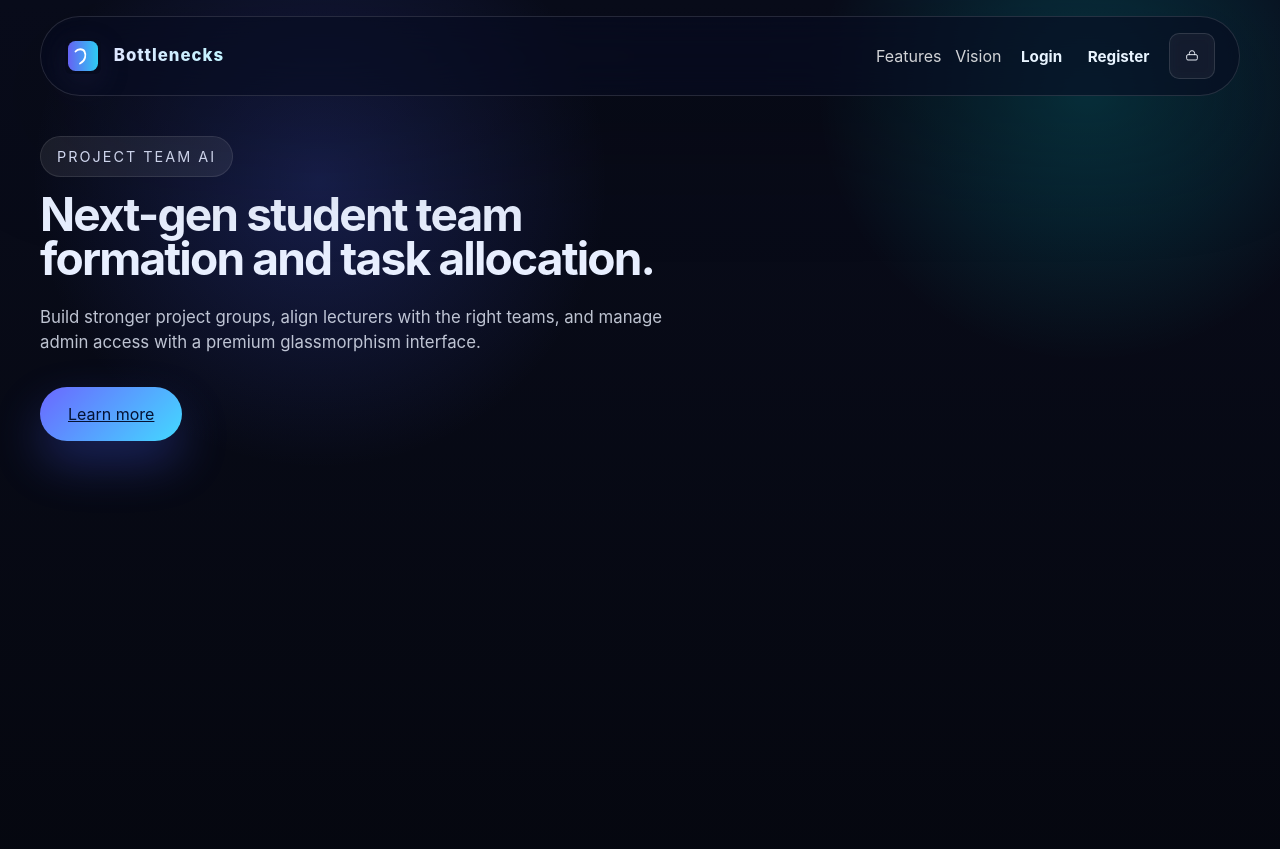
App – student join project › shows join project form when Join Project is clicked
Step 1. Click the button labelled "Login" → (1042, 56), box [1015,43,1068,69]
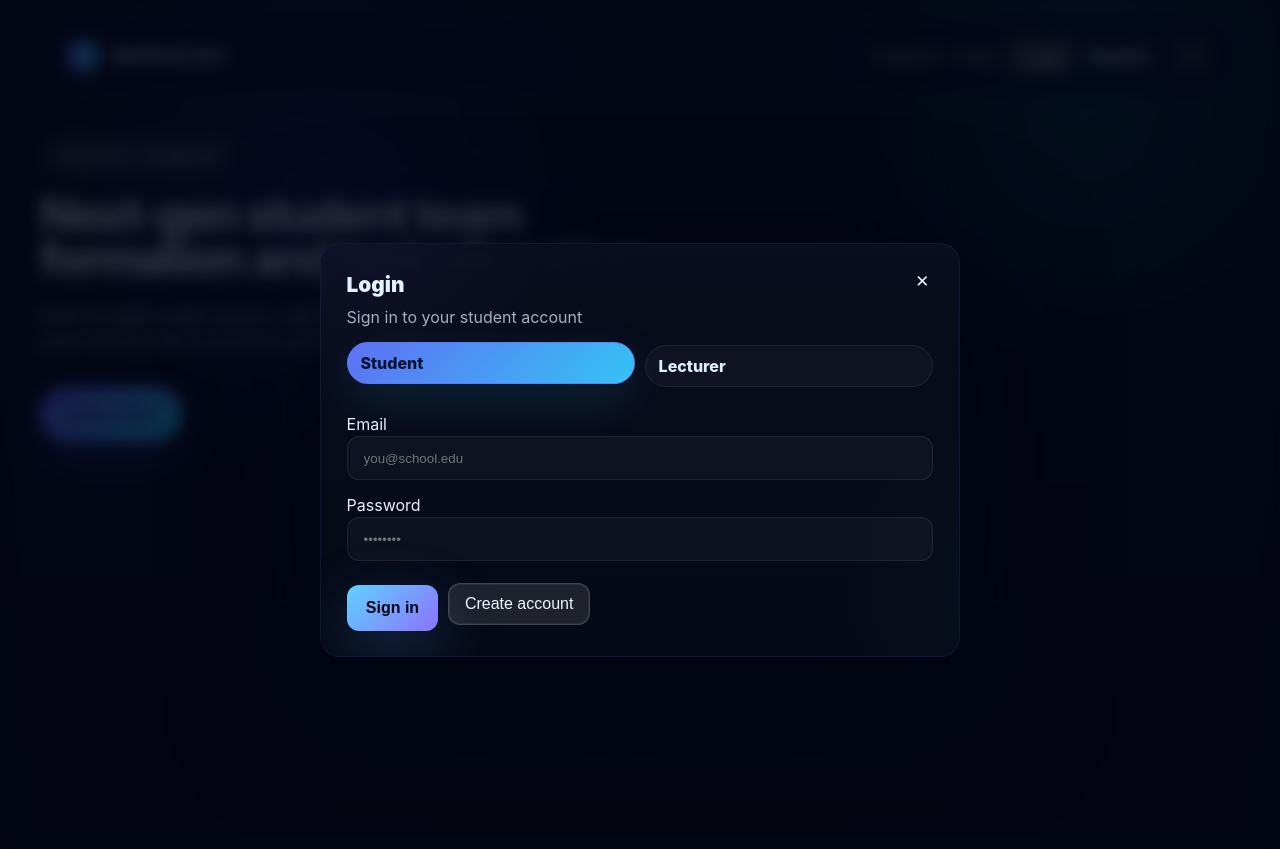
Step 2. Type "student@school.edu" into the field with placeholder "you@school.edu" → (640, 458), box [347,436,933,480]
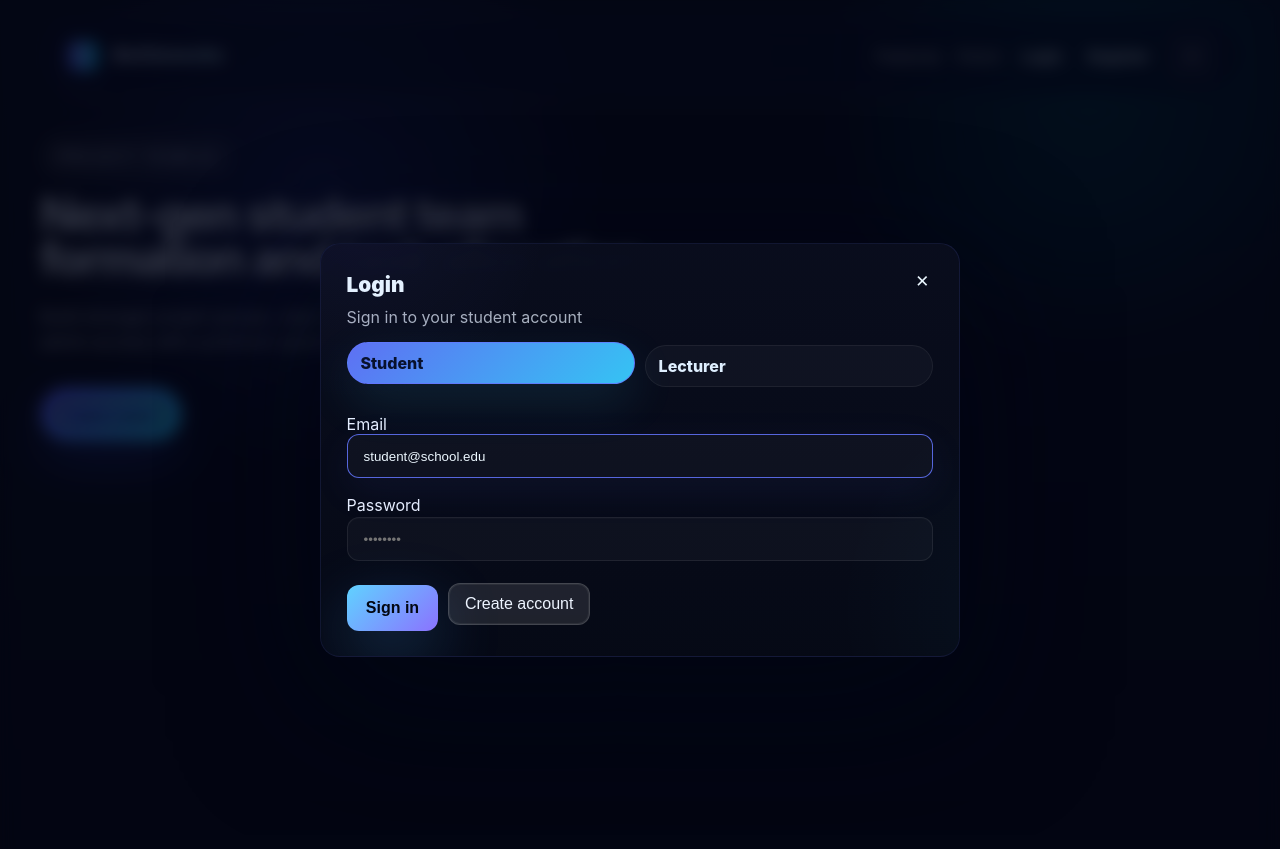
Step 3. Type "password123" into the password field with placeholder "••••••••" → (640, 539), box [347,517,933,561]
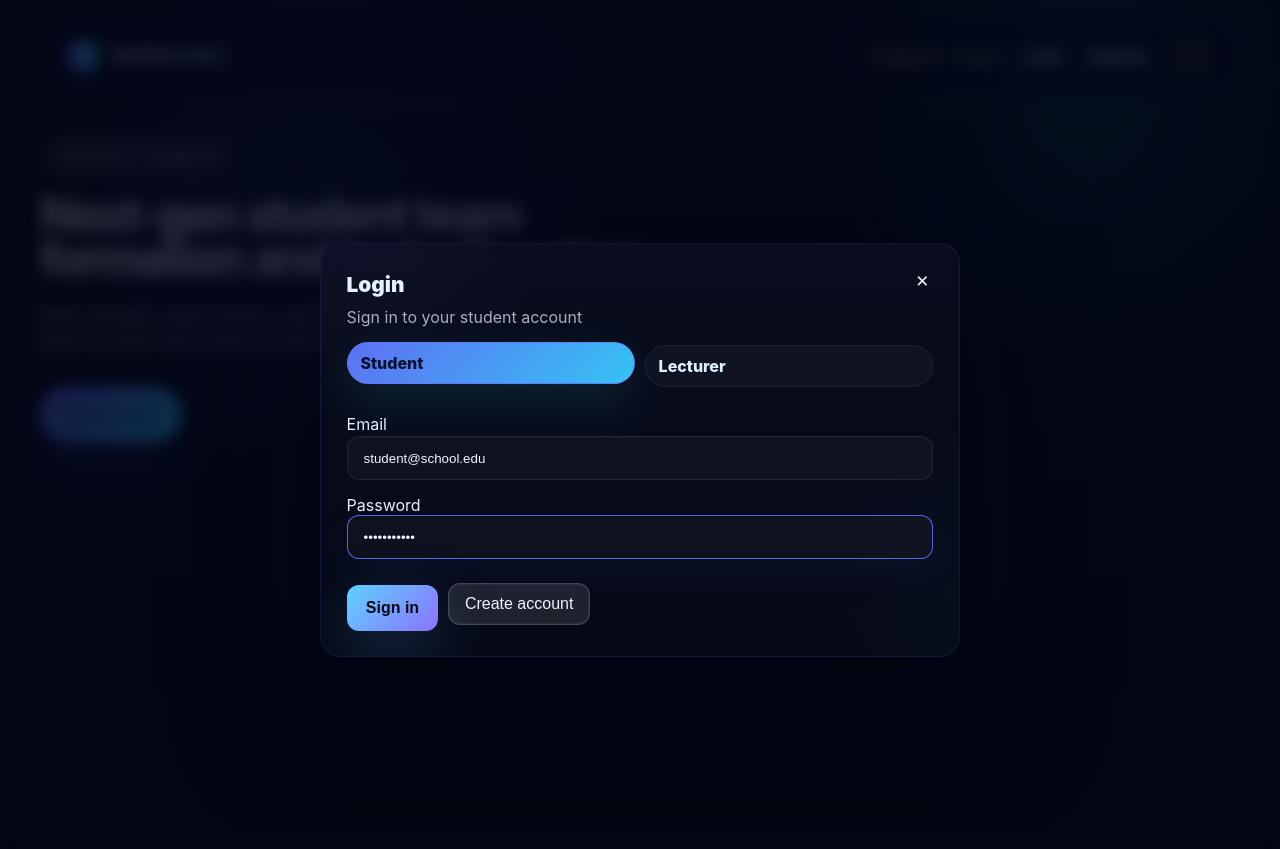
Step 4. Click the button "Sign in" → (392, 608), box [347,585,438,631]
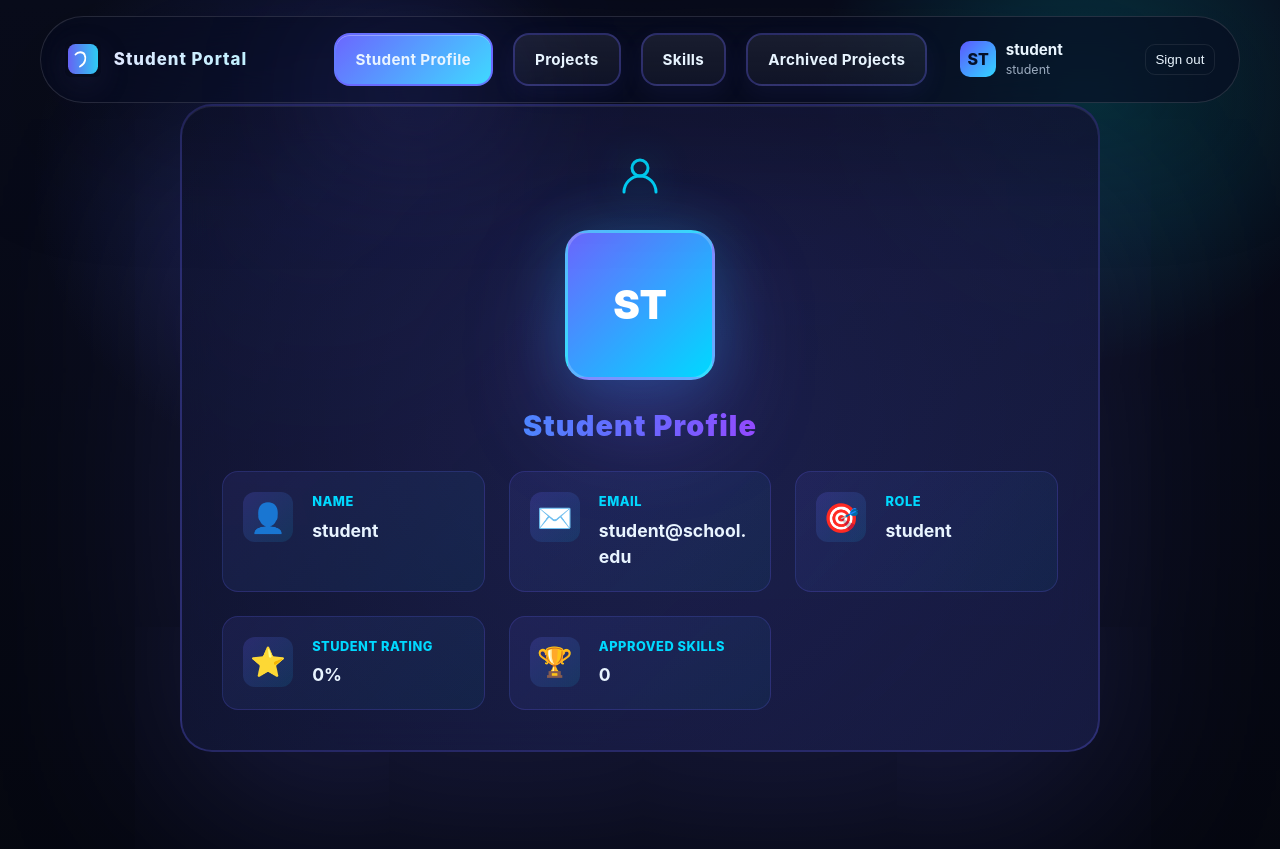
Step 5. Click the button "Projects" → (567, 59), box [513,33,621,86]
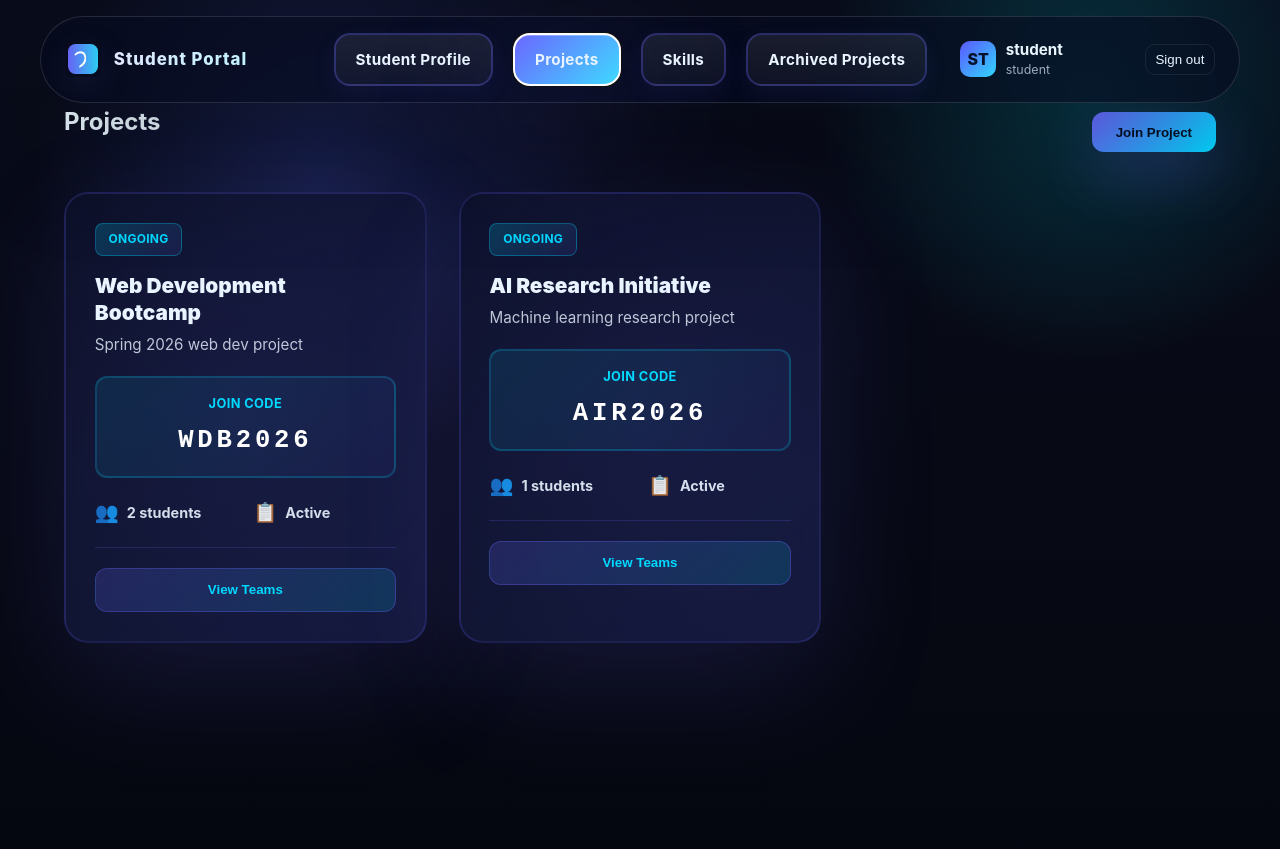
Step 6. Click the button "Join Project" → (1154, 132), box [1092,112,1216,152]
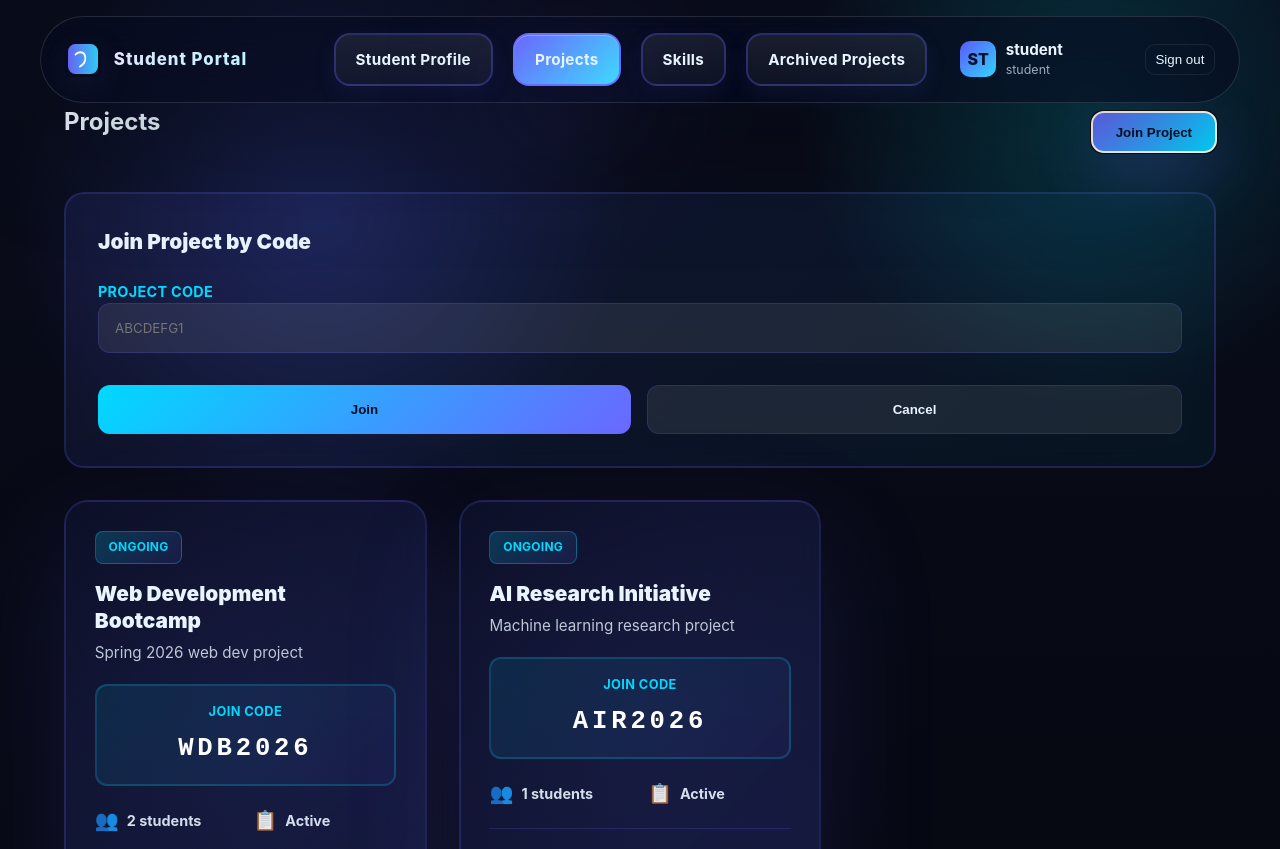
Now the heading "Join Project by Code" is shown, box [98,229,311,254]
Now the field with placeholder "ABCDEFG1" is shown, box [98,303,1182,353]
